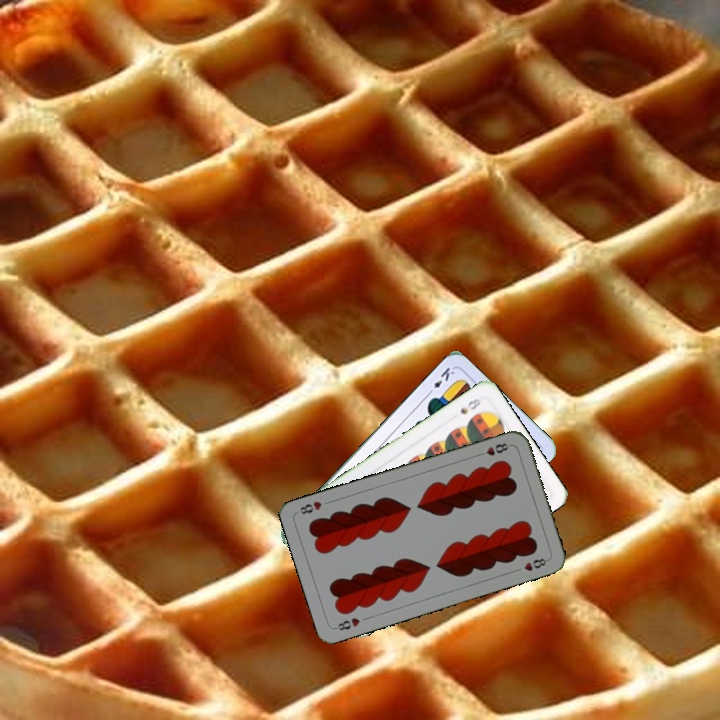EK: (424, 363, 457, 398)
H8: (474, 439, 513, 459), (331, 614, 362, 633)
S8: (456, 394, 483, 417)
